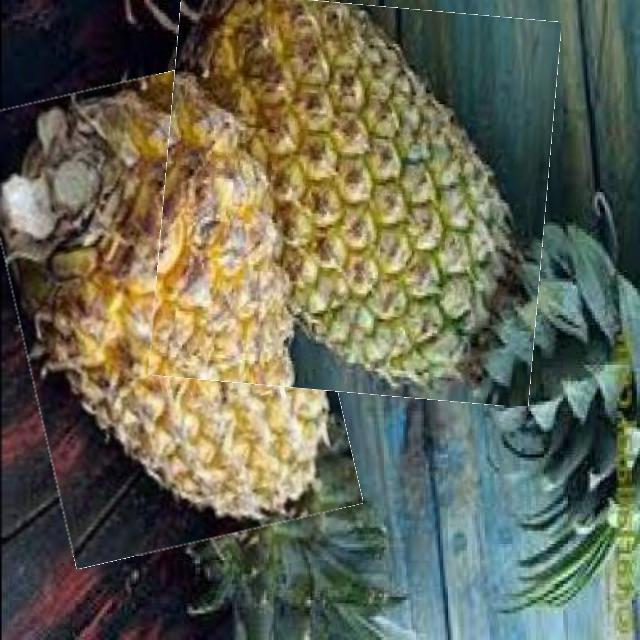Pineapple: (0, 65, 339, 556), (156, 0, 553, 398)
